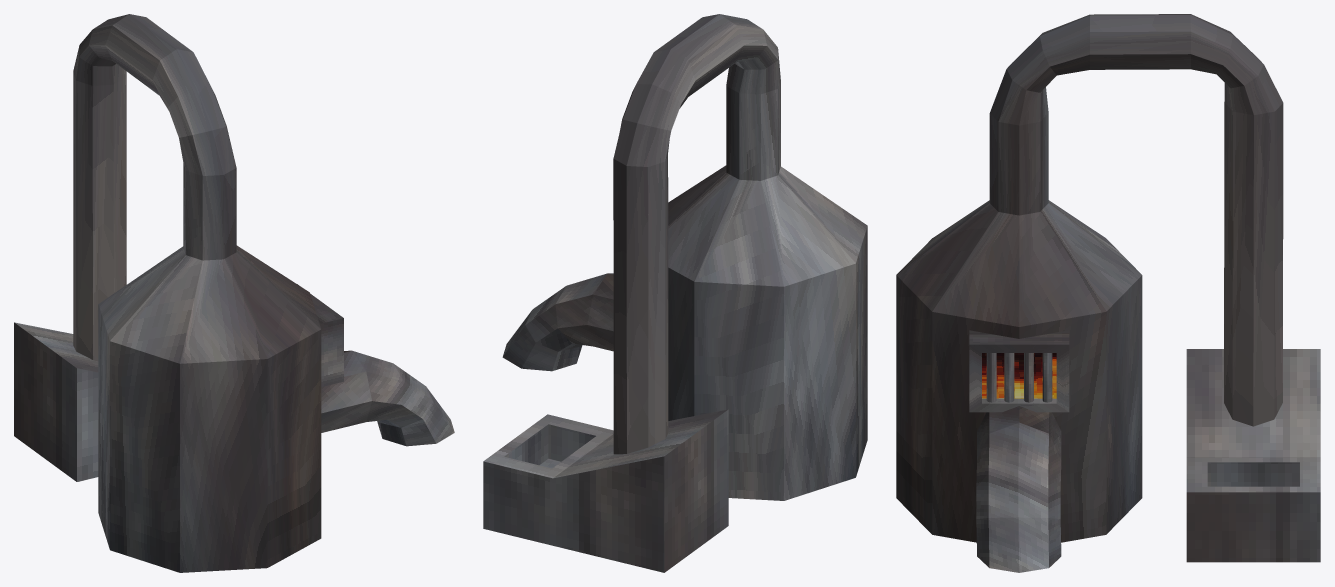
File: forge.glb
3 renders of one model, left to right at view 1: azimuth 30°, elevation 25°; view 2: azimuth 150°, elevation 25°; view 3: azimuth 270°, elevation 25°, orthographic. The views are drawn at different scales.
Parts seen in each view (by area): view 1: Cube, Cylinder.001, Cube.001; view 2: Cube, Cylinder.001; view 3: Cube, Cylinder.001, Cube.001, Cylinder.005.
Boxes of the visible parts, bbox=[...] form: Cube: bbox=[14, 14, 321, 572]; Cylinder.001: bbox=[321, 350, 454, 446]; Cube.001: bbox=[297, 284, 343, 386]; Cube: bbox=[483, 14, 867, 572]; Cylinder.001: bbox=[502, 273, 613, 371]; Cube: bbox=[896, 14, 1320, 562]; Cylinder.001: bbox=[976, 406, 1061, 572]; Cube.001: bbox=[969, 330, 1069, 412]; Cylinder.005: bbox=[986, 353, 1052, 402].
Bounding box in the file's own units: 5.12 × 6.51 × 5.18.
2 materials, 2 textured.
